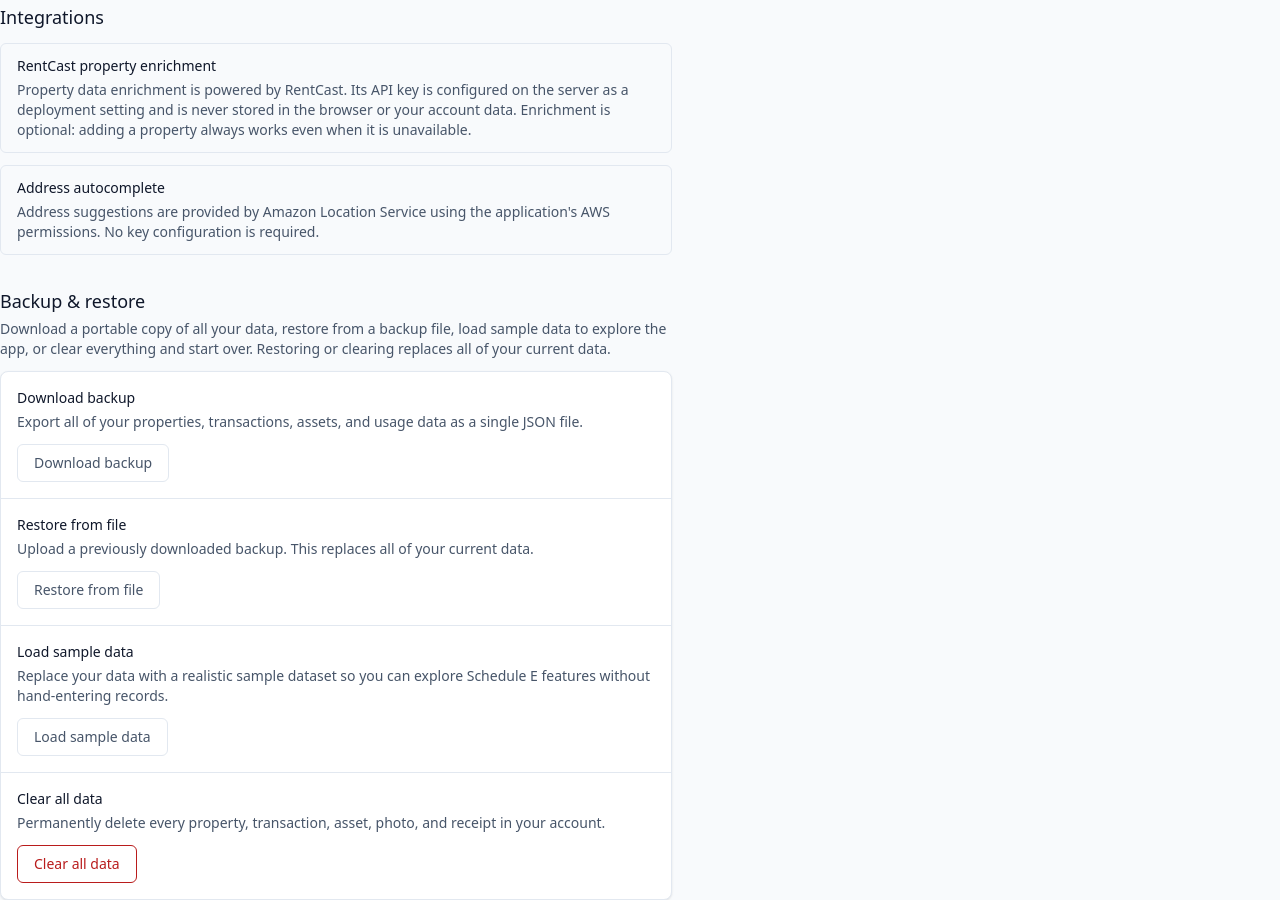
Test case: ProfilePage — Backup & restore: Load sample data (Req 10.5, 10.6) › opens the restore dialog and POSTs the bundled sample fixture on confirm
(page scrolled)
Click the button "Load sample data".
click(92, 737)  # box [17,718,168,756]
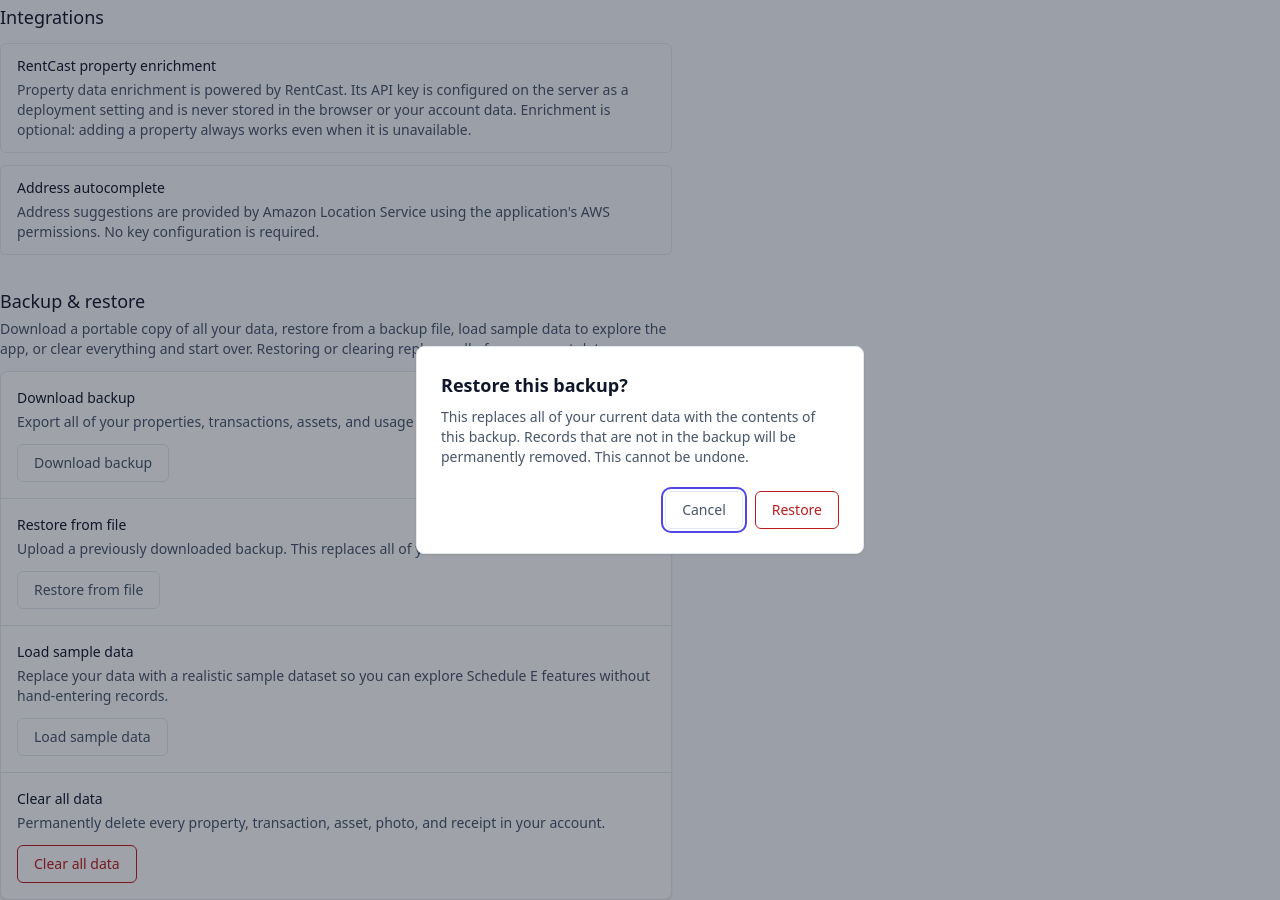
Check: the heading "Restore this backup?" is shown, box [441,373,628,397]
Click the button "Restore".
click(797, 510)  # box [755,491,839,529]
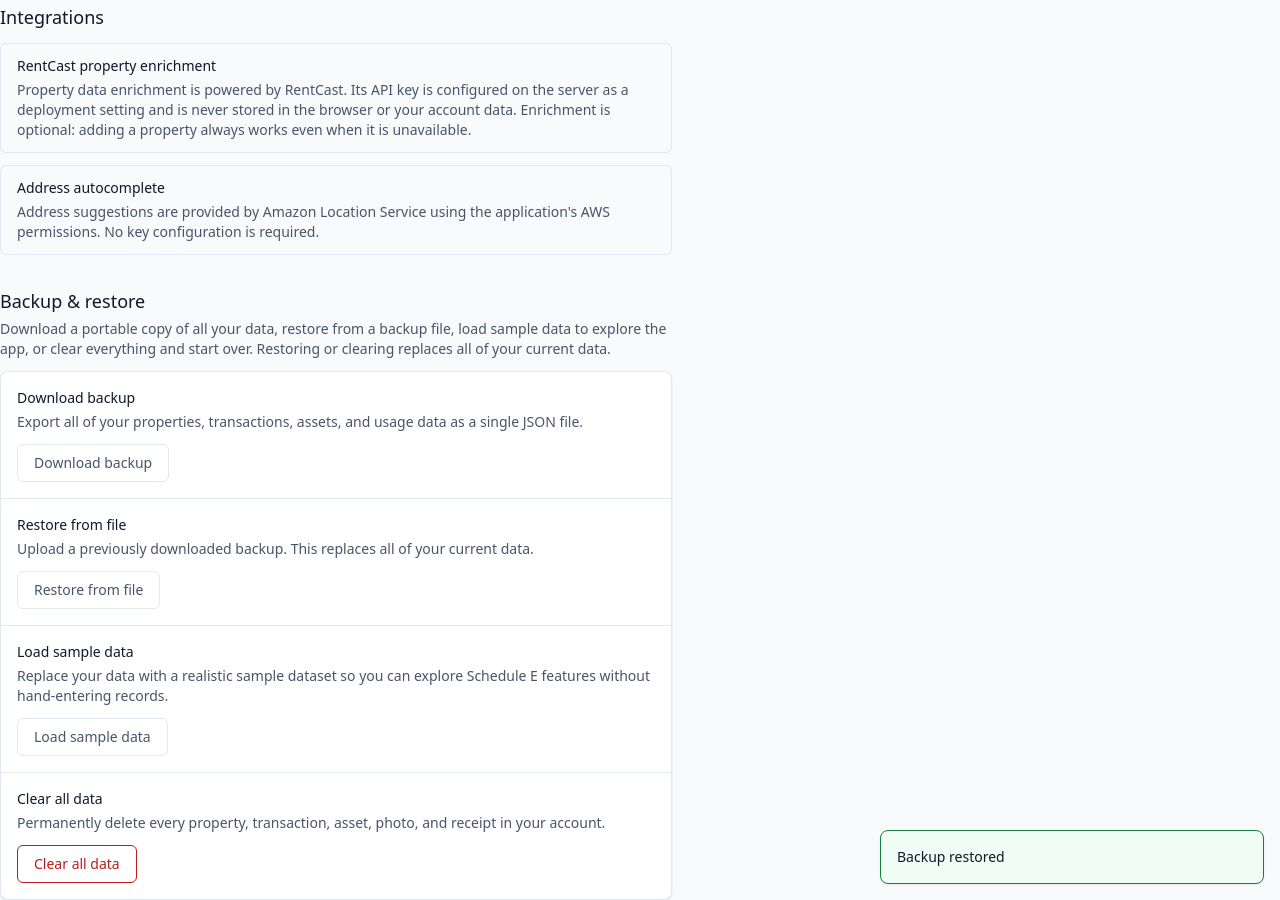
Check: the text "Backup restored" is shown, box [897,847,1005,866]
